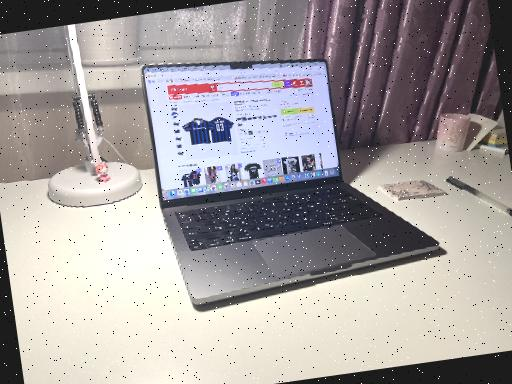aliexpress: (150, 60, 338, 190)
